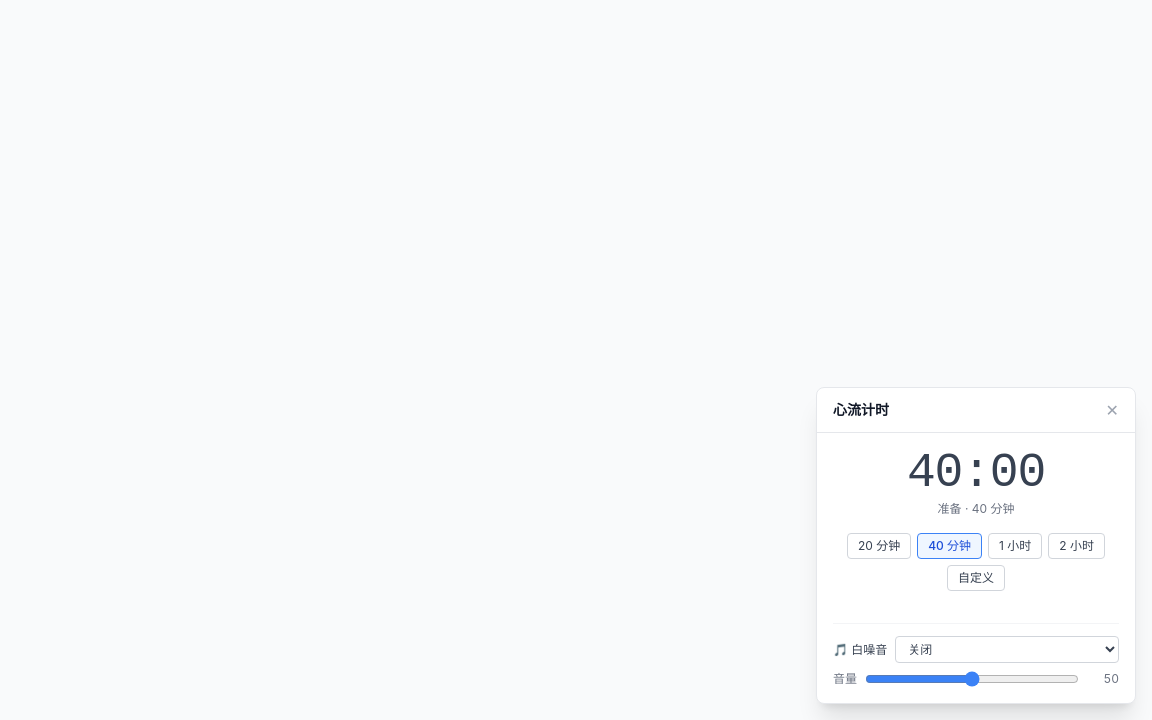
Scenario: FocusTimer › clicking a preset starts the timer
Click the button "20 分钟" at point(879, 546), box [847,533,911,559]
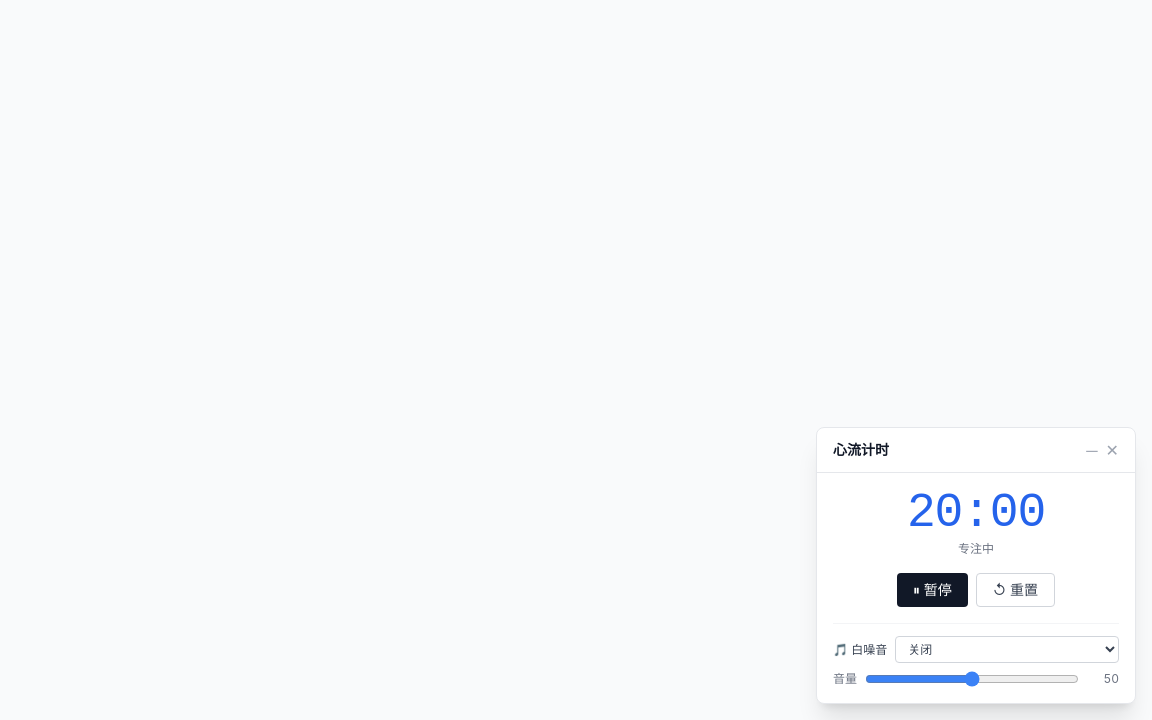
Result: the text "专注中" is shown at [958,541,994,556]
Result: the button "⏸ 暂停" is shown at [897,573,968,607]
Result: the button "↺ 重置" is shown at [976,573,1055,607]
